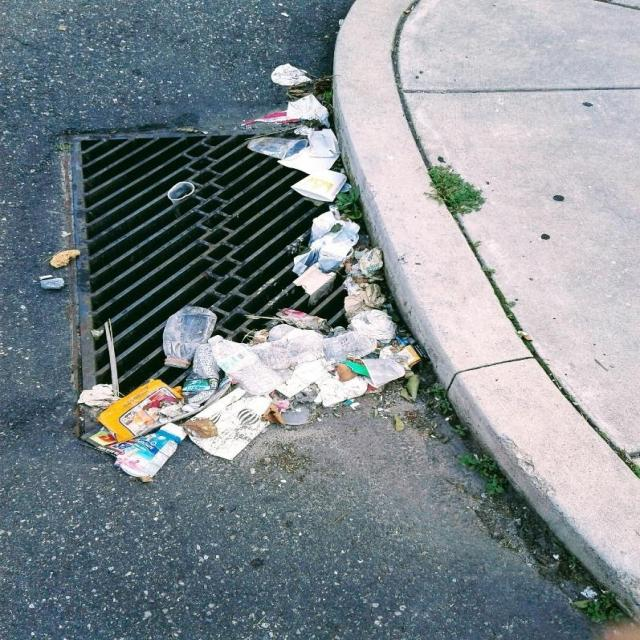garbage: (47, 60, 463, 501)
